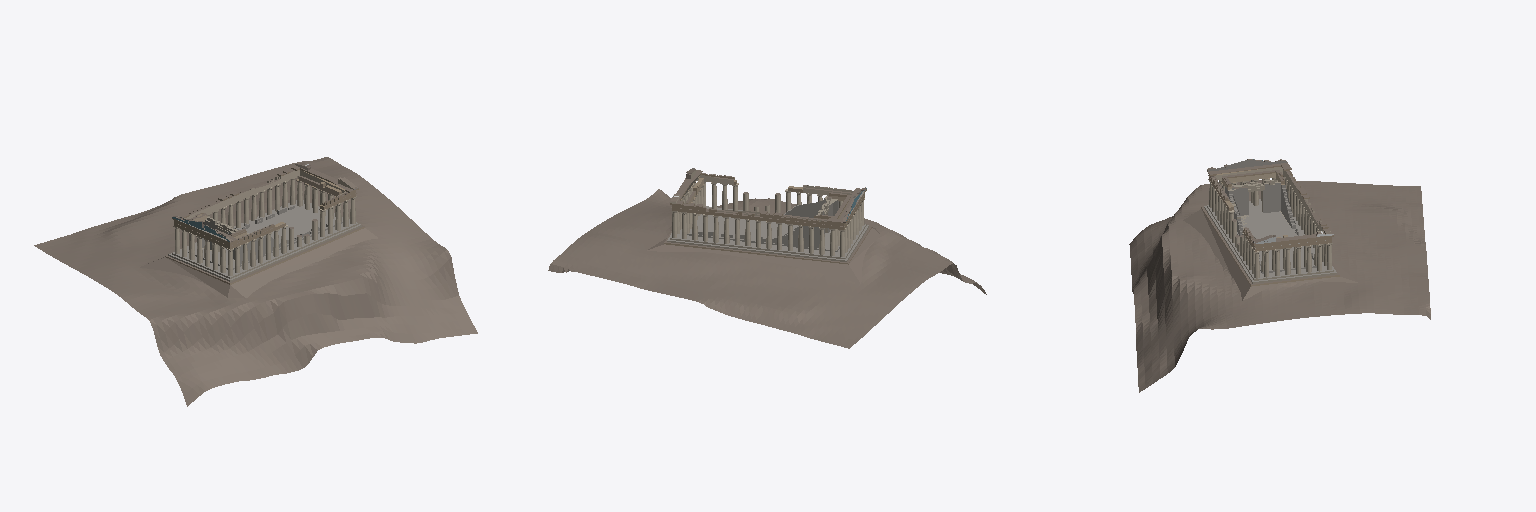
File: acropolis.obj
3 views of the same model, side by side, from view 1: azimuth 30°, elevation 25°; view 2: azimuth 150°, elevation 25°; view 3: azimuth 270°, elevation 25° (orthographic).
Visible parts, largest first — view 1: Mesh1 Google_Earth_Terrain Model, Mesh122 Group1 Model, Mesh123 Model, Mesh4 Group2 Group1 Model; view 2: Mesh1 Google_Earth_Terrain Model, Mesh122 Group1 Model, Mesh4 Group2 Group1 Model, Mesh123 Model; view 3: Mesh1 Google_Earth_Terrain Model, Mesh122 Group1 Model, Mesh123 Model, Mesh4 Group2 Group1 Model, Mesh3 Group3 Group2 Group1 Model, Mesh6 Group2 Group1 Model.
Boxes of the visible parts, x1,y1,x2,y2 form: Mesh1 Google_Earth_Terrain Model: [34, 157, 477, 406]; Mesh122 Group1 Model: [165, 200, 364, 284]; Mesh123 Model: [140, 195, 377, 298]; Mesh4 Group2 Group1 Model: [172, 165, 358, 249]; Mesh1 Google_Earth_Terrain Model: [548, 189, 986, 348]; Mesh122 Group1 Model: [664, 196, 871, 264]; Mesh4 Group2 Group1 Model: [670, 170, 866, 229]; Mesh123 Model: [647, 227, 880, 283]; Mesh1 Google_Earth_Terrain Model: [1129, 180, 1430, 392]; Mesh122 Group1 Model: [1201, 180, 1339, 286]; Mesh123 Model: [1183, 209, 1357, 300]; Mesh4 Group2 Group1 Model: [1207, 163, 1333, 251]; Mesh3 Group3 Group2 Group1 Model: [1243, 227, 1331, 251]; Mesh6 Group2 Group1 Model: [1221, 170, 1284, 189].
Bounding box in the file's own units: 140 × 55.48 × 121.